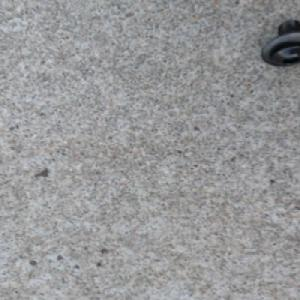BoltWasher: (259, 18, 300, 67)
